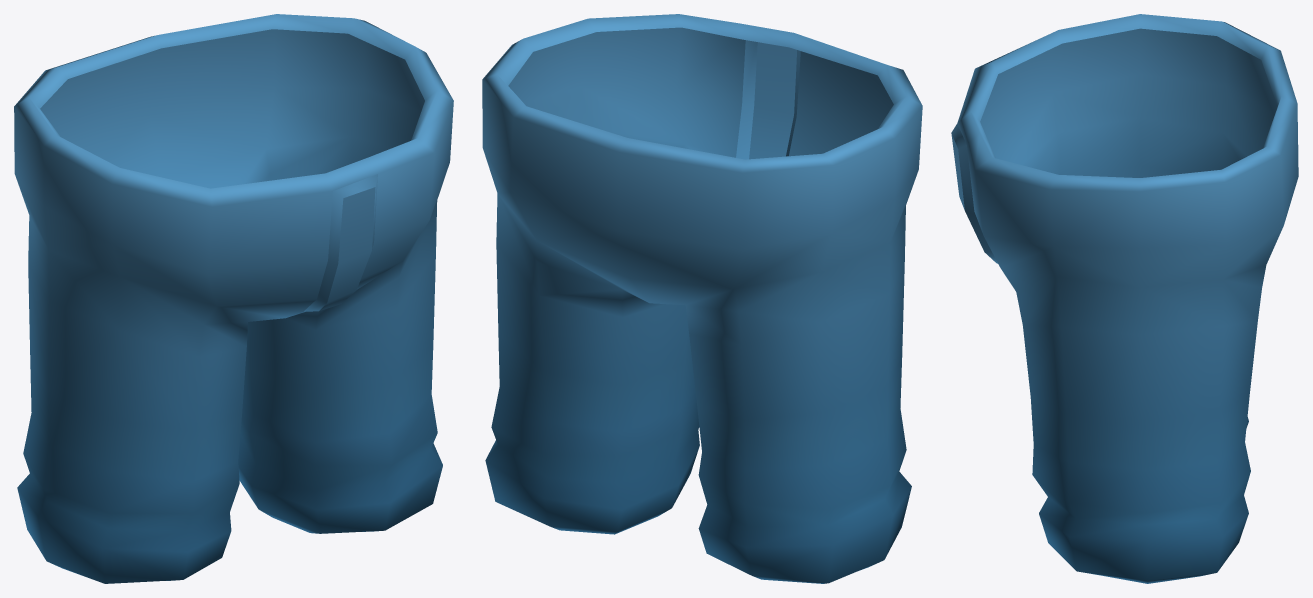
The model's file is Bottom_26.fbx.
3 views of the same model, side by side, from view 1: azimuth 30°, elevation 25°; view 2: azimuth 150°, elevation 25°; view 3: azimuth 270°, elevation 25° (orthographic). The views are drawn at different scales.
Visible parts, largest first — view 1: Bottom_26; view 2: Bottom_26; view 3: Bottom_26.
Part boxes in pixels (x1,y1,x2,y2): Bottom_26: (14,14,453,583); Bottom_26: (482,14,922,583); Bottom_26: (951,14,1298,583).
Size of the model in its own units: 38.38 by 41.84 by 31.97.
